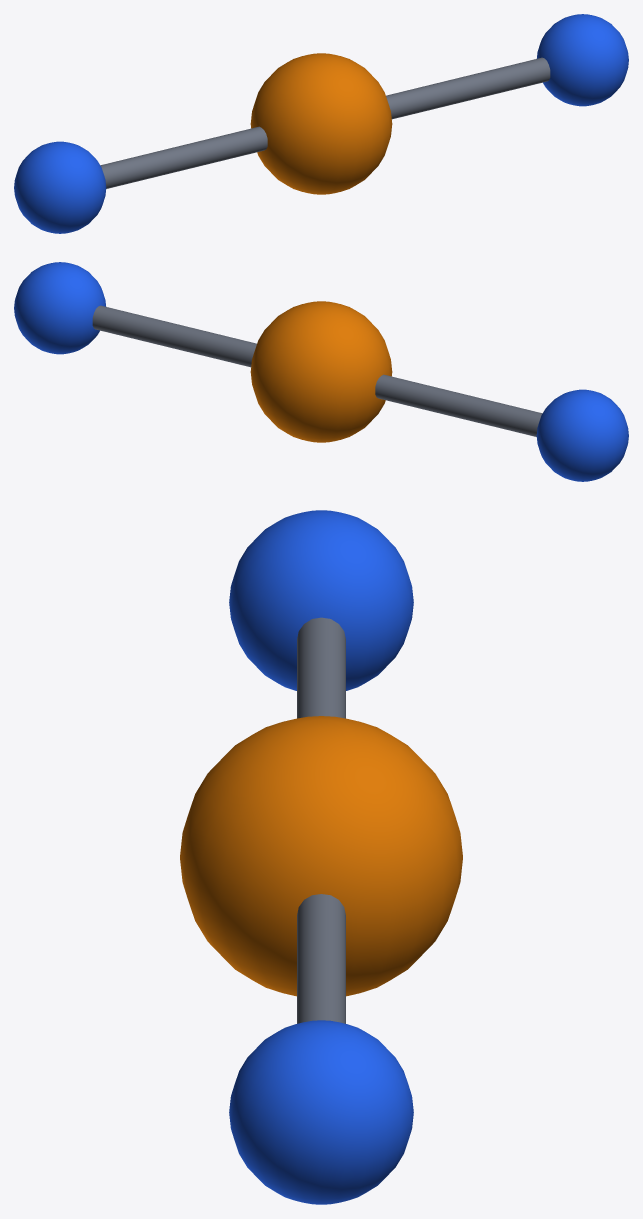
File: beh2.glb
3 renders of one model, top to bottom at view 1: azimuth 30°, elevation 25°; view 2: azimuth 150°, elevation 25°; view 3: azimuth 270°, elevation 25°, orthographic. The views are drawn at different scales.
Parts seen in each view (by area): view 1: Be1, H2, H1, object 5, object 4; view 2: Be1, H2, H1, object 5, object 4; view 3: Be1, H1, H2, object 4, object 5.
Boxes of the visible parts, box(x1,y1,x2,y2) form: Be1: box(250, 53, 392, 194); H2: box(14, 141, 106, 233); H1: box(536, 14, 628, 106); object 5: box(100, 126, 267, 188); object 4: box(386, 57, 550, 119); Be1: box(250, 301, 392, 442); H2: box(536, 389, 628, 481); H1: box(14, 262, 106, 354); object 5: box(375, 374, 542, 436); object 4: box(92, 305, 256, 367); Be1: box(180, 716, 462, 996); H1: box(229, 1020, 413, 1204); H2: box(229, 510, 413, 690); object 4: box(297, 894, 345, 1023); object 5: box(297, 617, 345, 718).
Size of the model in its own units: 0.452 by 0.092 by 0.092.
